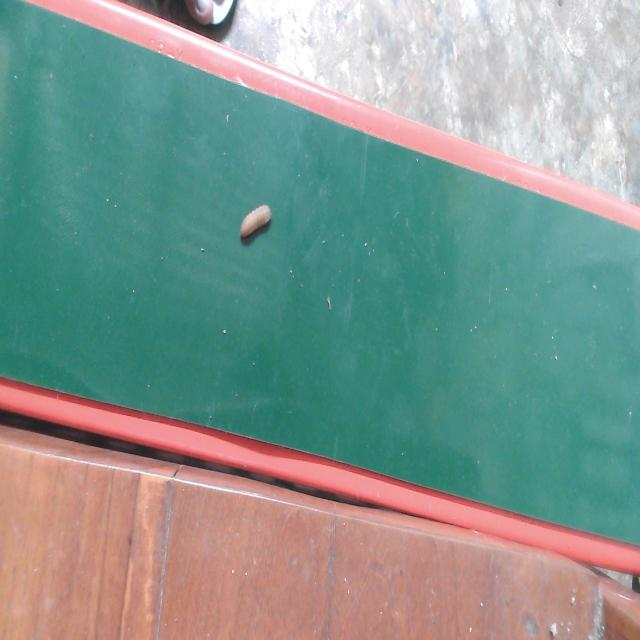Maggot: (237, 204, 274, 247)
